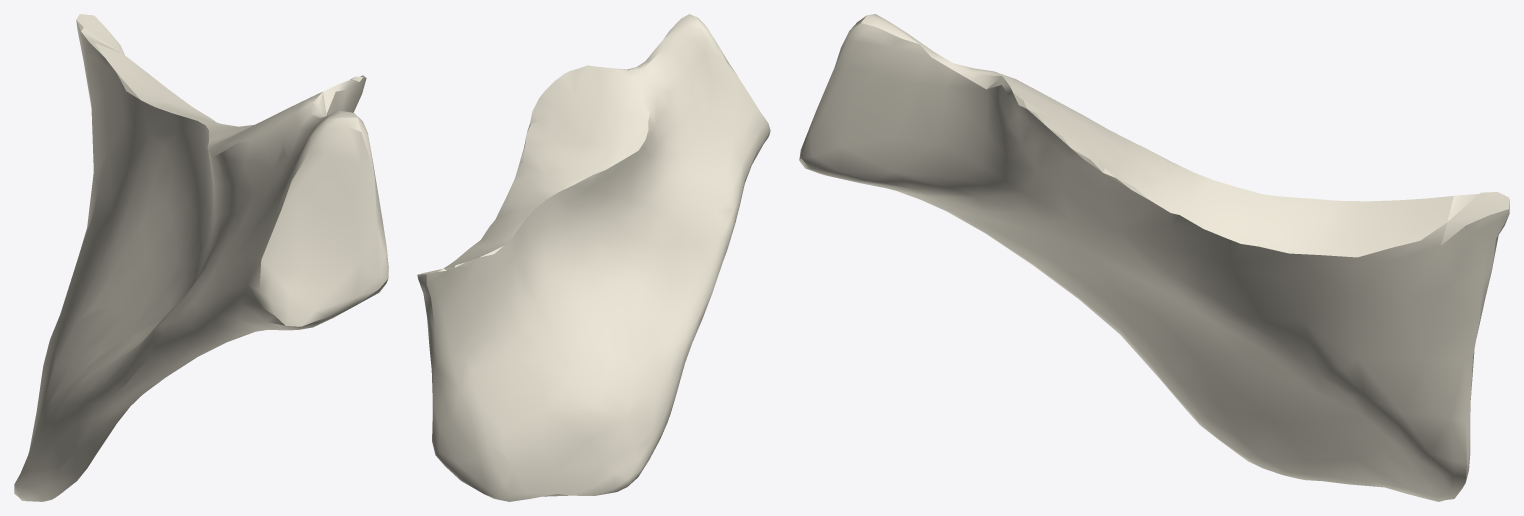
Rendered from fma54745_mm2176m.glb.
The picture shows the model from 3 angles, left to right: view 1: azimuth 30°, elevation 25°; view 2: azimuth 150°, elevation 25°; view 3: azimuth 270°, elevation 25°; orthographic projection. The views are drawn at different scales.
Parts seen in each view (by area): view 1: FMA54745_MM2176M; view 2: FMA54745_MM2176M; view 3: FMA54745_MM2176M.
Part boxes in pixels (x1,y1,x2,y2): FMA54745_MM2176M: [14, 14, 388, 501]; FMA54745_MM2176M: [417, 14, 770, 501]; FMA54745_MM2176M: [799, 14, 1509, 501].
Size of the model in its own units: 0.0045 by 0.00872 by 0.0112.
